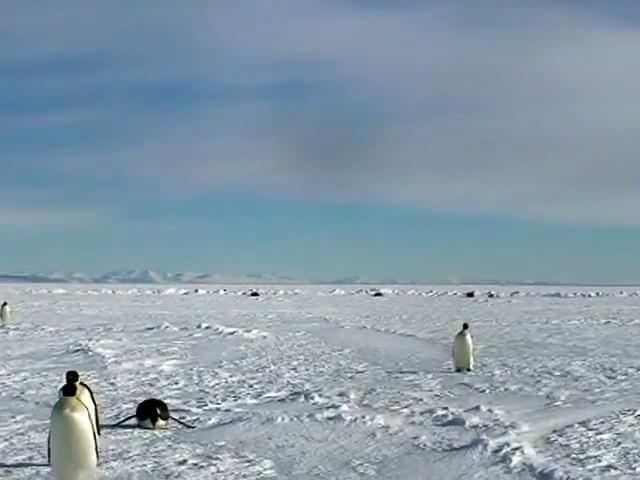animal: (101, 398, 194, 428)
